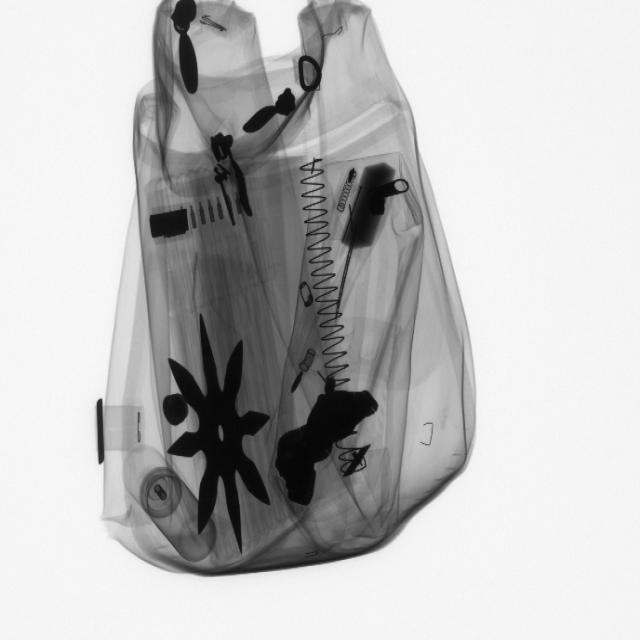SHURIKEN: (167, 314, 275, 554)
